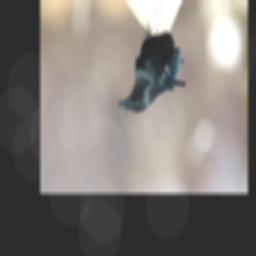Crow: (117, 24, 185, 112)
